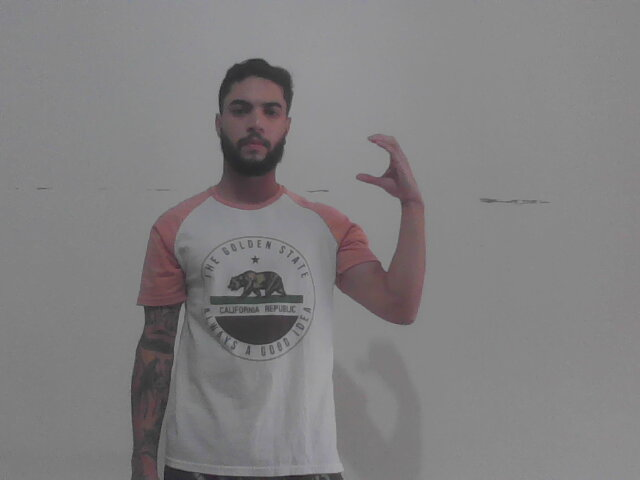c: (354, 127, 430, 212)
